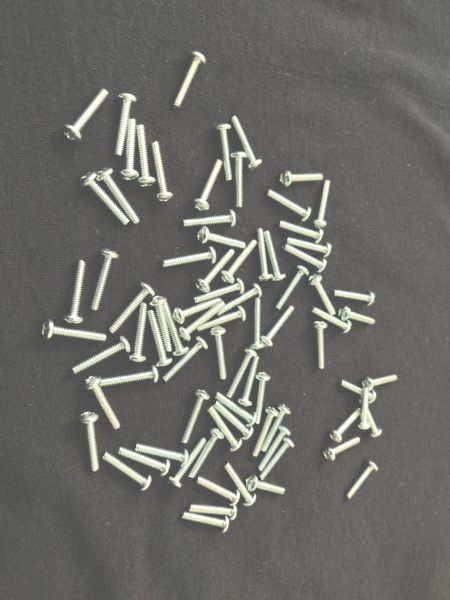longscrew: (79, 170, 132, 228), (61, 87, 110, 144), (108, 280, 156, 336), (95, 167, 141, 225), (70, 336, 131, 375), (82, 375, 122, 432), (100, 450, 153, 493), (167, 435, 208, 490), (162, 336, 209, 383), (172, 49, 206, 110), (89, 246, 120, 312), (179, 300, 227, 342), (194, 248, 237, 294), (188, 427, 225, 480), (230, 115, 264, 172), (115, 444, 172, 478), (40, 317, 108, 344), (263, 187, 314, 223), (220, 239, 259, 285), (191, 158, 224, 212), (181, 388, 212, 445), (207, 406, 244, 453), (213, 400, 255, 441), (162, 298, 191, 357), (227, 346, 259, 399), (274, 264, 310, 311), (222, 460, 257, 508), (217, 282, 263, 318), (146, 310, 174, 369), (92, 364, 160, 388), (259, 436, 295, 481), (215, 391, 257, 429), (148, 295, 175, 354), (262, 402, 292, 455), (114, 92, 138, 158), (77, 410, 101, 474), (259, 425, 291, 473), (262, 304, 296, 349), (64, 259, 87, 325), (192, 277, 246, 305), (132, 442, 190, 468), (151, 141, 175, 203), (193, 476, 241, 507), (252, 406, 280, 459), (196, 305, 246, 334), (162, 245, 218, 270), (346, 460, 380, 501), (282, 244, 328, 274), (119, 117, 140, 182), (308, 273, 339, 317), (174, 297, 222, 325), (327, 407, 363, 444), (136, 123, 156, 189), (263, 230, 287, 283), (181, 510, 231, 535), (310, 306, 353, 335), (238, 354, 261, 408), (215, 121, 235, 183), (277, 219, 326, 244), (129, 302, 149, 363), (180, 208, 238, 229), (197, 226, 247, 250), (230, 150, 249, 210), (254, 228, 275, 282), (321, 436, 363, 463), (285, 236, 333, 259), (338, 378, 378, 405), (313, 179, 334, 229), (359, 397, 384, 439), (248, 298, 267, 352), (210, 327, 228, 382), (254, 371, 272, 425), (186, 503, 239, 521), (245, 475, 286, 497), (278, 169, 325, 188), (332, 288, 378, 307), (337, 305, 378, 326), (313, 320, 329, 371), (357, 385, 373, 430), (362, 373, 399, 391)
